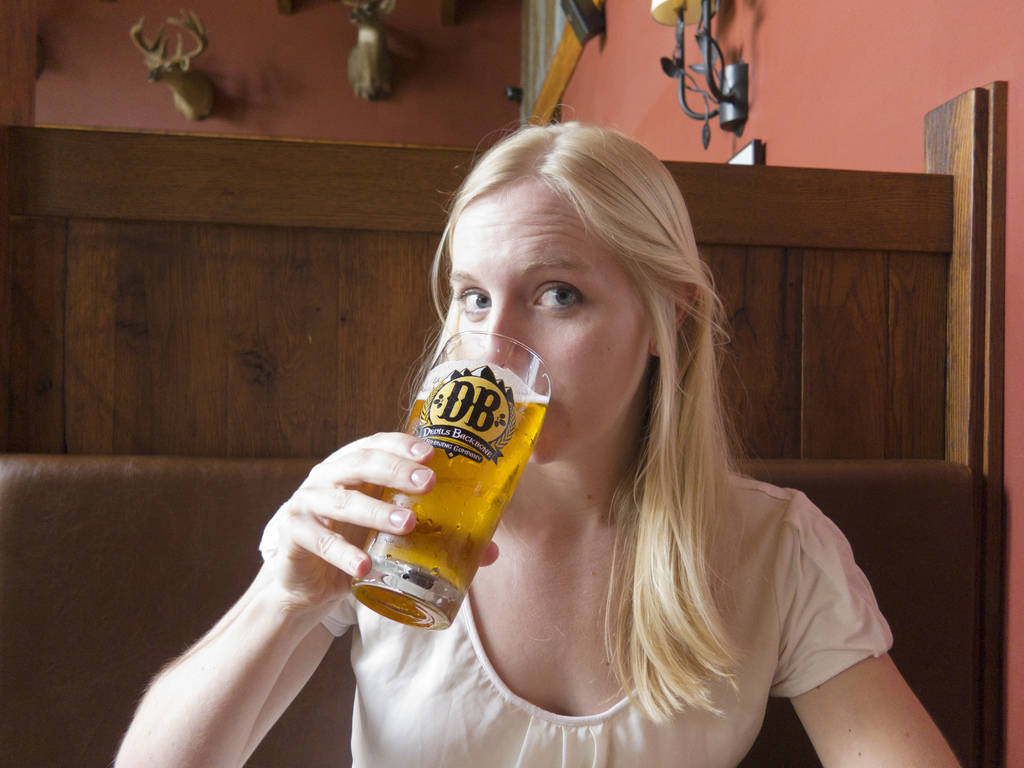Beer: (353, 348, 544, 641)
